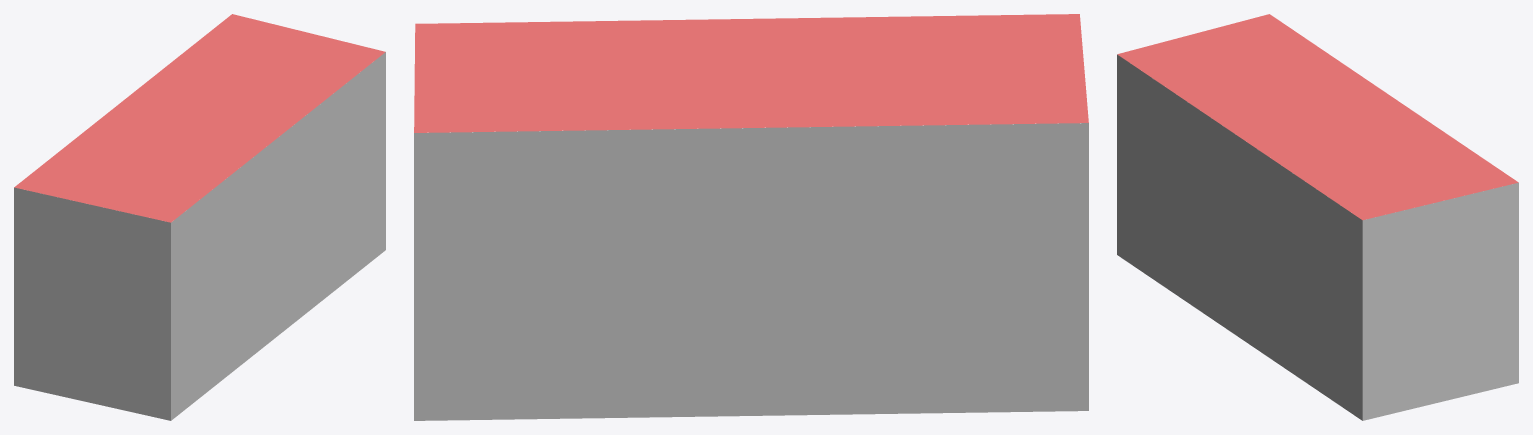
The picture shows the model from 3 angles, left to right: view 1: azimuth 30°, elevation 25°; view 2: azimuth 150°, elevation 25°; view 3: azimuth 270°, elevation 25°; orthographic projection. The views are drawn at different scales.
Visible parts, largest first — view 1: Z_UP; view 2: Z_UP; view 3: Z_UP.
Boxes of the visible parts, box(x1,y1,x2,y2) form: Z_UP: box(14, 14, 385, 420); Z_UP: box(414, 14, 1088, 420); Z_UP: box(1117, 14, 1518, 420).
Size of the model in its own units: 35.29 by 16 by 29.05.
